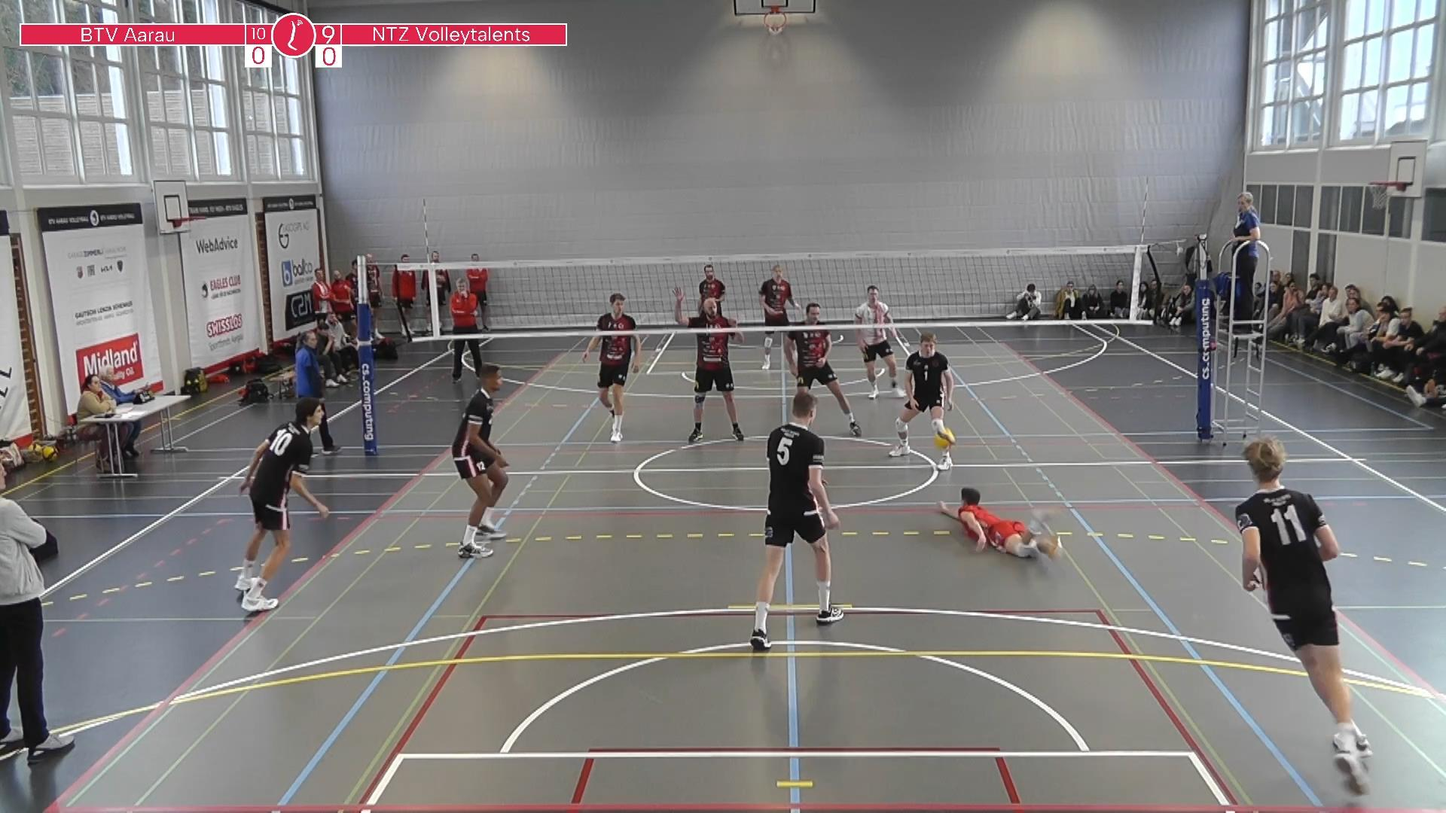difesa: (931, 481, 1075, 568)
